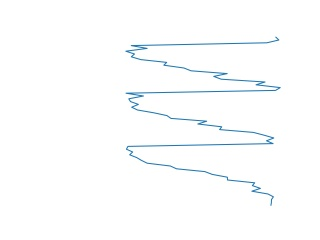distributaryMouthBar: (122, 34, 282, 205)
